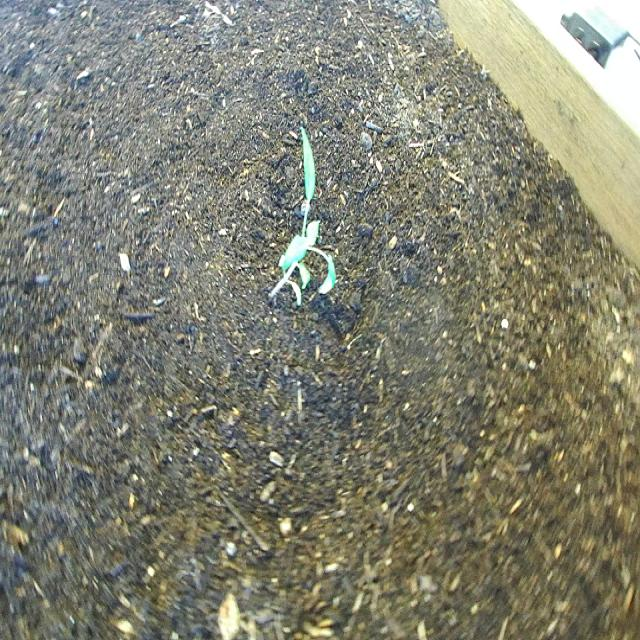Healthy: (266, 103, 342, 330)
